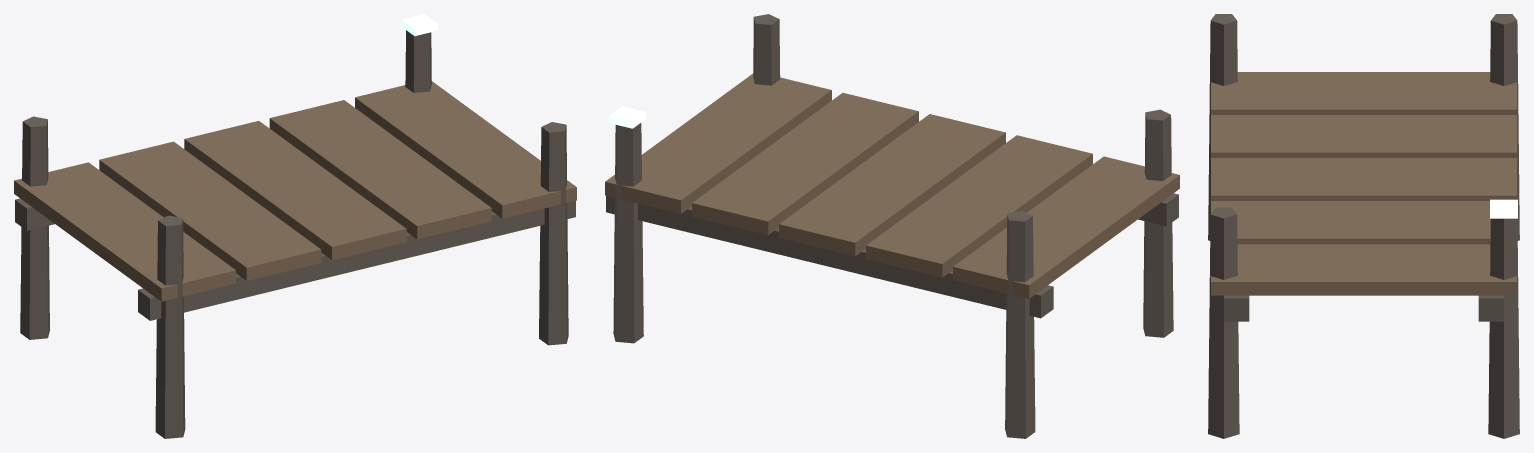
The model's file is dock.glb.
3 views of the same model, side by side, from view 1: azimuth 30°, elevation 25°; view 2: azimuth 150°, elevation 25°; view 3: azimuth 270°, elevation 25° (orthographic). The views are drawn at different scales.
Parts seen in each view (by area): view 1: dock; view 2: dock; view 3: dock.
Part boxes in pixels (box(x1,y1,x2,y2)): dock: box(14, 14, 576, 438); dock: box(605, 14, 1179, 438); dock: box(1208, 14, 1519, 438).
Bounding box in the file's own units: 4 × 1.96 × 2.45.
